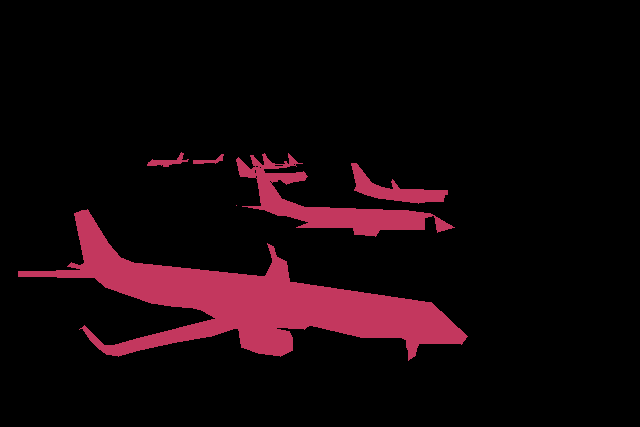Airplane: (18, 209, 468, 360), (236, 170, 454, 237), (351, 163, 448, 203), (236, 157, 307, 185), (250, 155, 296, 169), (147, 152, 188, 166), (262, 153, 294, 166), (193, 154, 224, 164), (288, 153, 302, 163)
